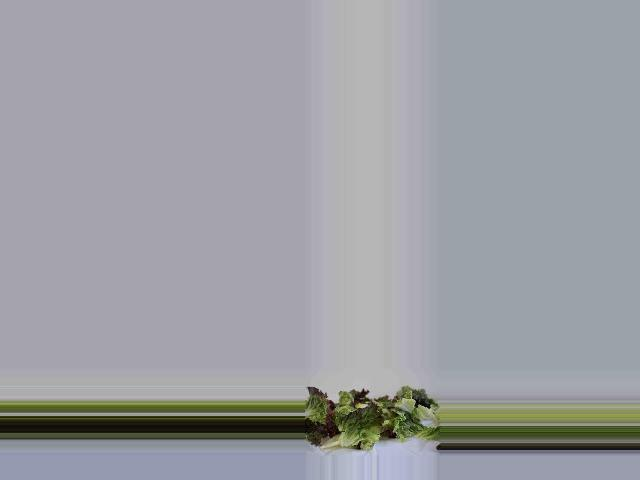lettuce: (309, 391, 432, 441)
